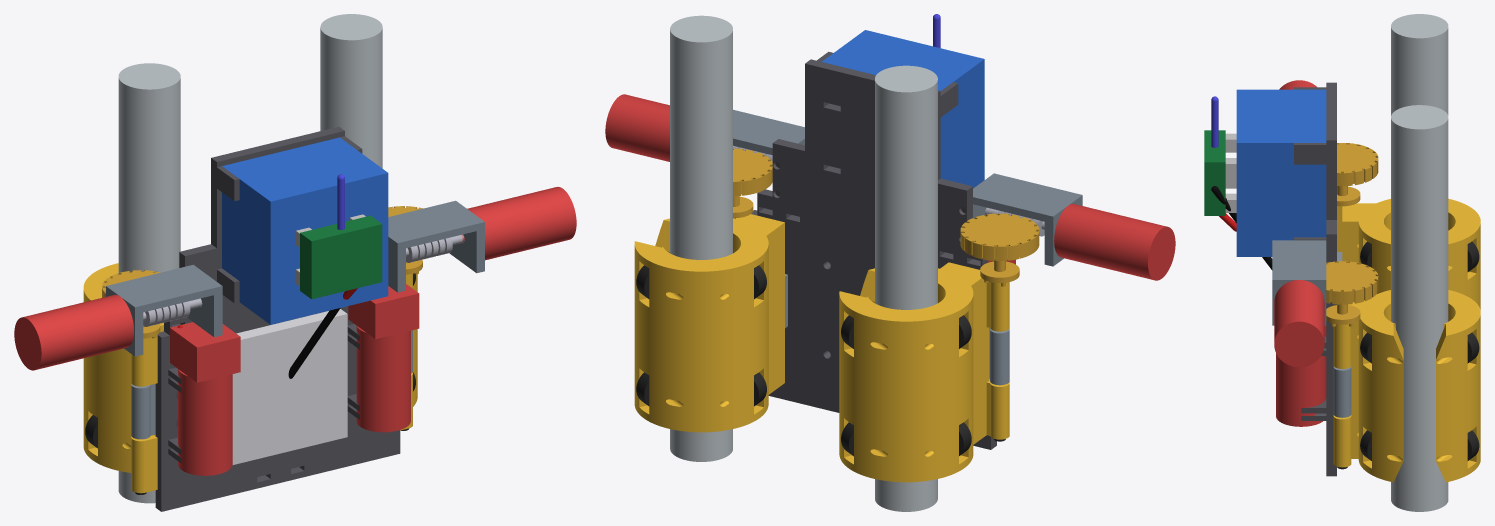
Rendered from cart_base_v2.glb.
3 views of the same model, side by side, from view 1: azimuth 30°, elevation 25°; view 2: azimuth 150°, elevation 25°; view 3: azimuth 270°, elevation 25° (orthographic). The views are drawn at different scales.
Parts seen in each view (by area): view 1: battery, drive_motors, base_plate, arm_base_footprint, track_pipe_B, track_pipe_C, hinge_pipe_B_worm_motor, hand_on_pipe_B_sleeve, waveshare_board, hinge_pipe_C_worm_motor, hinge_pipe_B_worm_bracket, hinge_pipe_C_worm_bracket (+8 smaller); view 2: base_plate, hand_on_pipe_C_sleeve, hand_on_pipe_B_sleeve, track_pipe_B, track_pipe_C, battery, hinge_pipe_B_worm_motor, hinge_pipe_B_worm_wheel_hub, hinge_pipe_B_worm_bracket, hinge_pipe_C_worm_motor, hinge_pipe_B_sleeve_leaf_knuckles, hinge_pipe_C_worm_bracket (+4 smaller); view 3: track_pipe_C, hand_on_pipe_C_sleeve, battery, hand_on_pipe_B_sleeve, track_pipe_B, hinge_pipe_C_worm_motor, base_plate, drive_motors, hinge_pipe_C_worm_bracket, hinge_pipe_C_worm_wheel_hub, hinge_pipe_B_worm_wheel_hub, hinge_pipe_C_sleeve_leaf_knuckles (+9 smaller).
Part boxes in pixels (box(x1,y1,x2,y2)): battery: box(222, 137, 388, 324); drive_motors: box(170, 284, 419, 475); base_plate: box(155, 126, 400, 511); arm_base_footprint: box(232, 309, 347, 465); track_pipe_B: box(118, 63, 180, 503); track_pipe_C: box(320, 14, 382, 168); hinge_pipe_B_worm_motor: box(14, 294, 133, 370); hand_on_pipe_B_sleeve: box(83, 263, 131, 472); waveshare_board: box(300, 215, 382, 299); hinge_pipe_C_worm_motor: box(461, 187, 576, 260); hinge_pipe_B_worm_bracket: box(106, 264, 222, 356); hinge_pipe_C_worm_bracket: box(388, 200, 484, 292); base_plate: box(751, 59, 996, 449); hand_on_pipe_C_sleeve: box(634, 216, 781, 432); hand_on_pipe_B_sleeve: box(839, 264, 986, 482); track_pipe_B: box(875, 65, 937, 511); track_pipe_C: box(670, 15, 732, 461); battery: box(822, 30, 984, 188); hinge_pipe_B_worm_motor: box(1054, 204, 1175, 280); hinge_pipe_B_worm_wheel_hub: box(960, 213, 1039, 286); hinge_pipe_B_worm_bracket: box(973, 173, 1082, 266); hinge_pipe_C_worm_motor: box(605, 94, 669, 161); hinge_pipe_B_sleeve_leaf_knuckles: box(946, 262, 1009, 439); hinge_pipe_C_worm_bracket: box(733, 109, 804, 155); track_pipe_C: box(1391, 105, 1448, 511); hand_on_pipe_C_sleeve: box(1348, 290, 1480, 482); battery: box(1236, 89, 1326, 256); hand_on_pipe_B_sleeve: box(1348, 198, 1480, 309); track_pipe_B: box(1391, 14, 1448, 115); hinge_pipe_C_worm_motor: box(1274, 280, 1324, 367); base_plate: box(1326, 82, 1336, 476); drive_motors: box(1276, 325, 1326, 426); hinge_pipe_C_worm_bracket: box(1272, 240, 1326, 325); hinge_pipe_C_worm_wheel_hub: box(1326, 261, 1378, 326); hinge_pipe_B_worm_wheel_hub: box(1337, 143, 1378, 206); hinge_pipe_C_sleeve_leaf_knuckles: box(1333, 324, 1351, 467).
Size of the model in its own units: 318 by 235 by 154.
